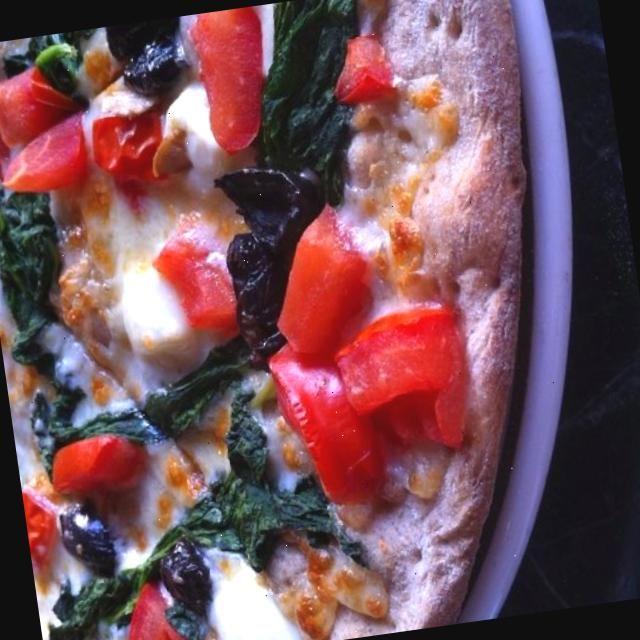basil: (202, 0, 388, 257), (170, 390, 354, 588), (70, 346, 280, 448), (0, 157, 89, 370), (42, 568, 147, 640)
pizza: (0, 0, 526, 640)
tomato: (245, 203, 488, 510), (178, 5, 284, 170), (0, 57, 105, 208), (150, 215, 246, 352), (40, 407, 151, 520), (324, 32, 414, 131), (84, 106, 160, 193), (115, 581, 192, 640)
